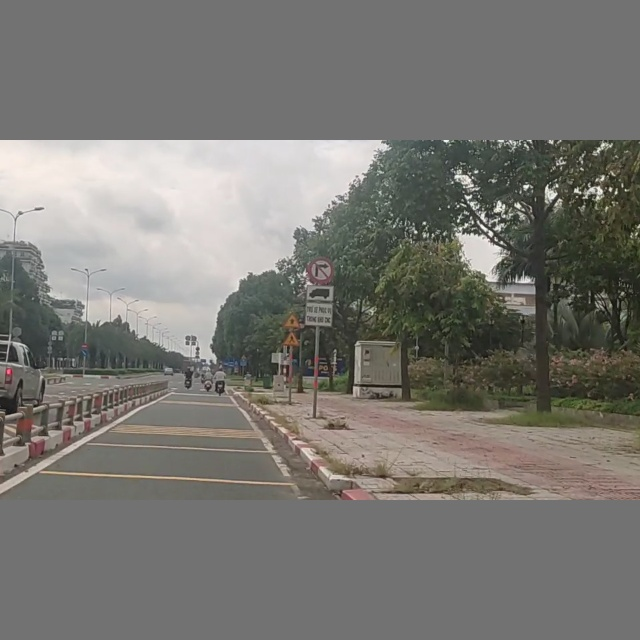P.123b: (306, 256, 334, 283)
S.505a*Xe tai: (305, 284, 334, 327)
W.207: (283, 313, 301, 329)
W.224: (283, 331, 301, 347)
